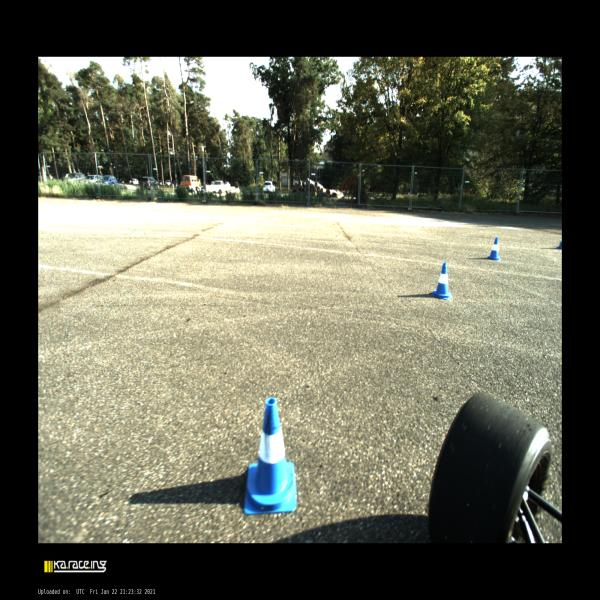blue_cone: (244, 397, 297, 513), (431, 263, 452, 300), (488, 237, 502, 261)
